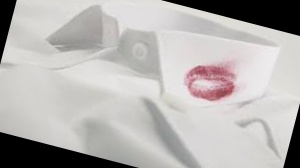lipstick: (179, 58, 237, 103)
